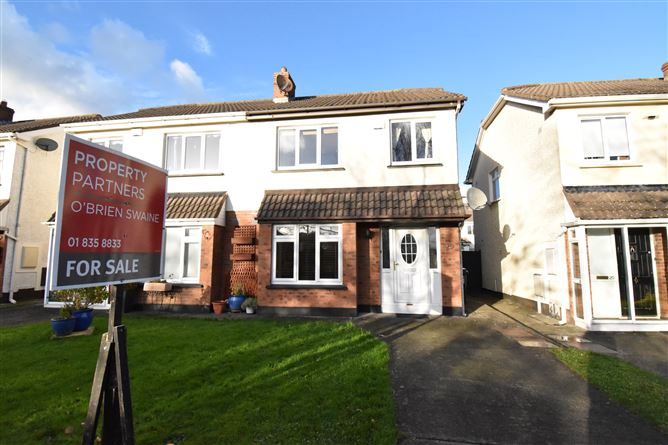property sign: (43, 125, 181, 299)
